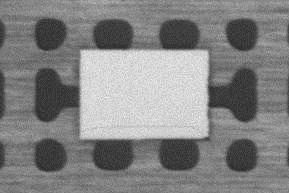DIE_CRACK: (85, 122, 201, 133)
